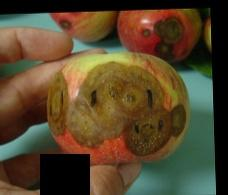rotten apple: (42, 50, 194, 167), (116, 9, 200, 61), (48, 11, 115, 44)
